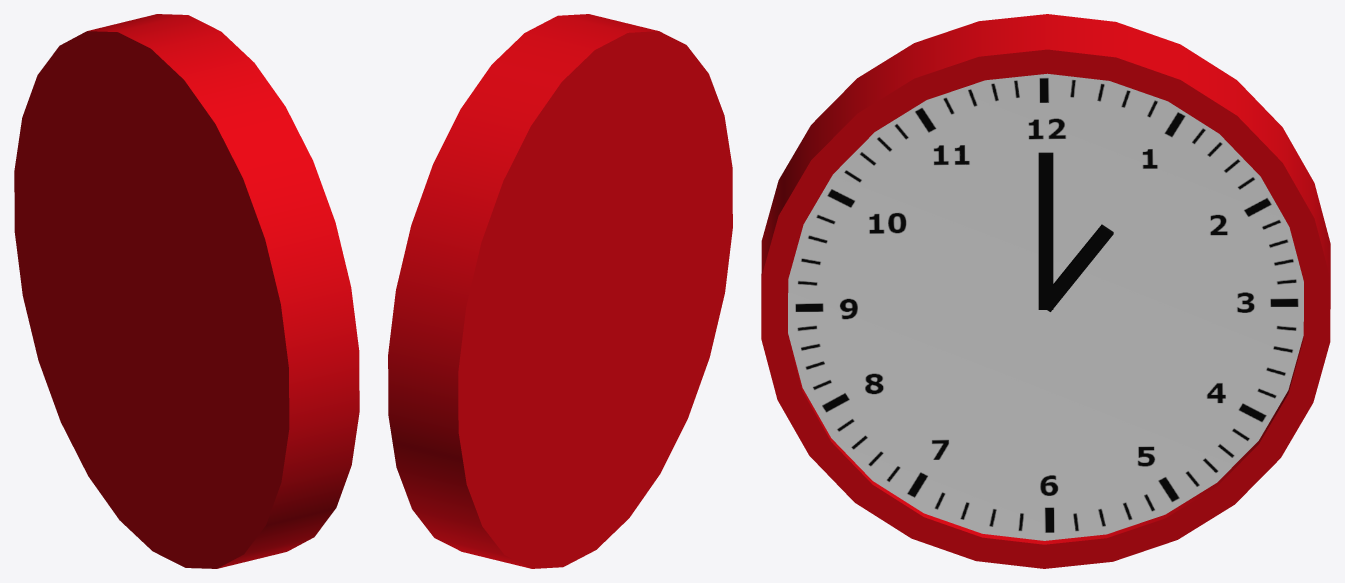
The model's file is klok.fbx.
3 views of the same model, side by side, from view 1: azimuth 30°, elevation 25°; view 2: azimuth 150°, elevation 25°; view 3: azimuth 270°, elevation 25° (orthographic). The views are drawn at different scales.
Parts seen in each view (by area): view 1: Cylinder; view 2: Cylinder; view 3: Cylinder, Cube, Cube.001.
Part boxes in pixels (x1,y1,x2,y2): Cylinder: (14, 14, 359, 568); Cylinder: (388, 14, 732, 568); Cylinder: (761, 14, 1330, 568); Cube: (1038, 152, 1053, 309); Cube.001: (1047, 224, 1113, 311).
Bounding box in the file's own units: 2.62 × 17.84 × 17.72.
